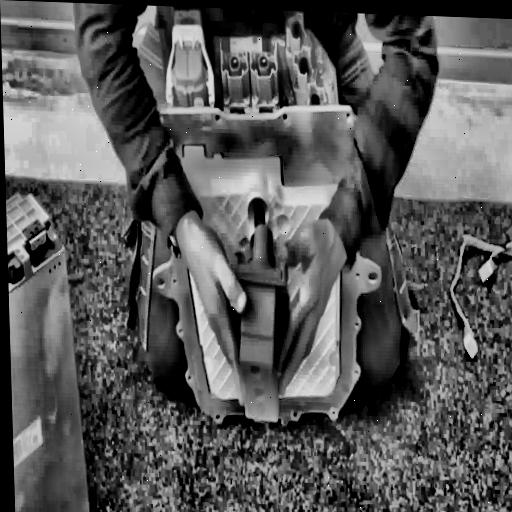bms_unit: (145, 6, 383, 442)
connector: (220, 221, 304, 432)
